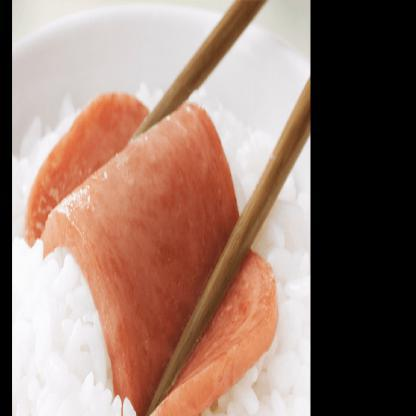spam: (88, 146, 270, 376)
